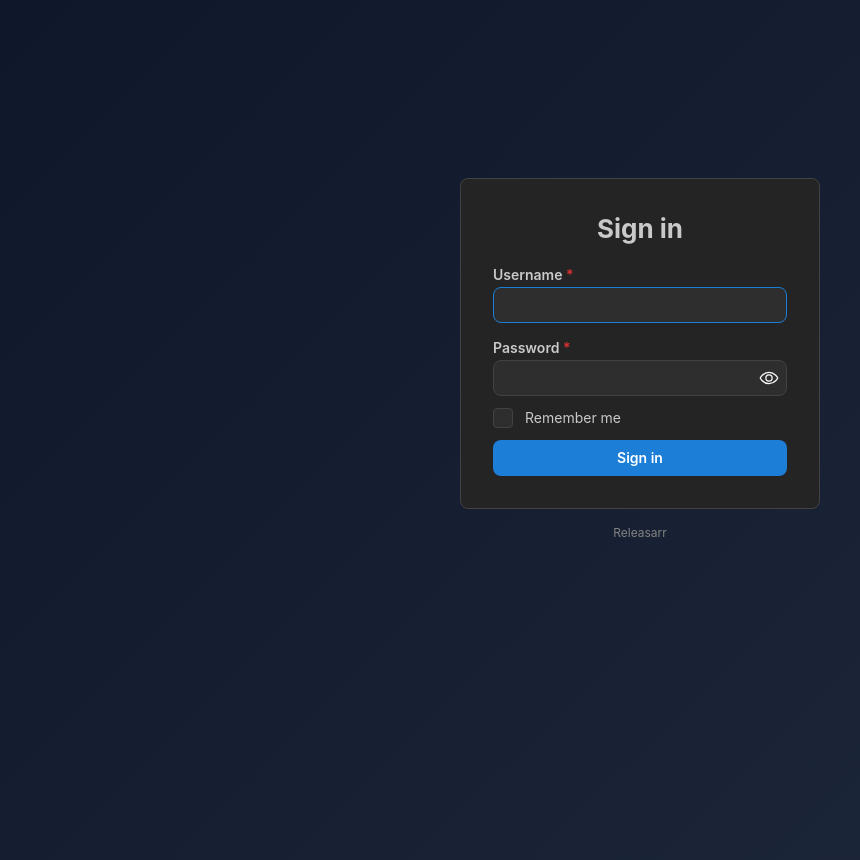
Test case: LoginPage › shows an error for the wrong password
Type "alice" into the field labelled "Username *" at (640,305), box x1=493 y1=287 x2=787 y2=323
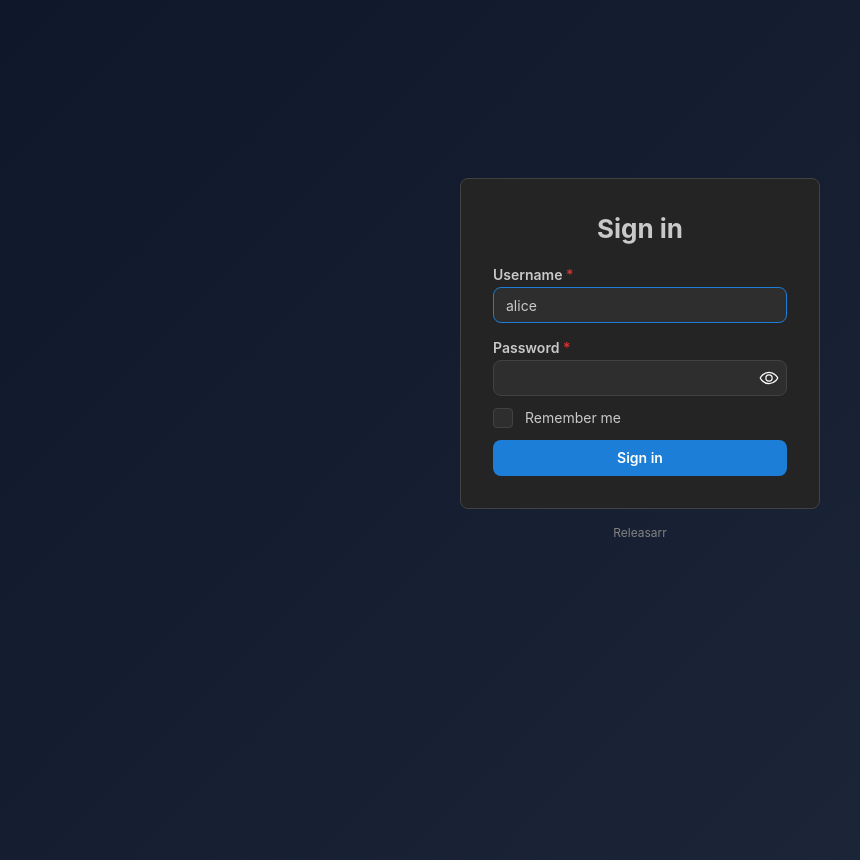
Type "wrong" into the password field labelled "Password *" at (640,378), box x1=494 y1=361 x2=786 y2=395
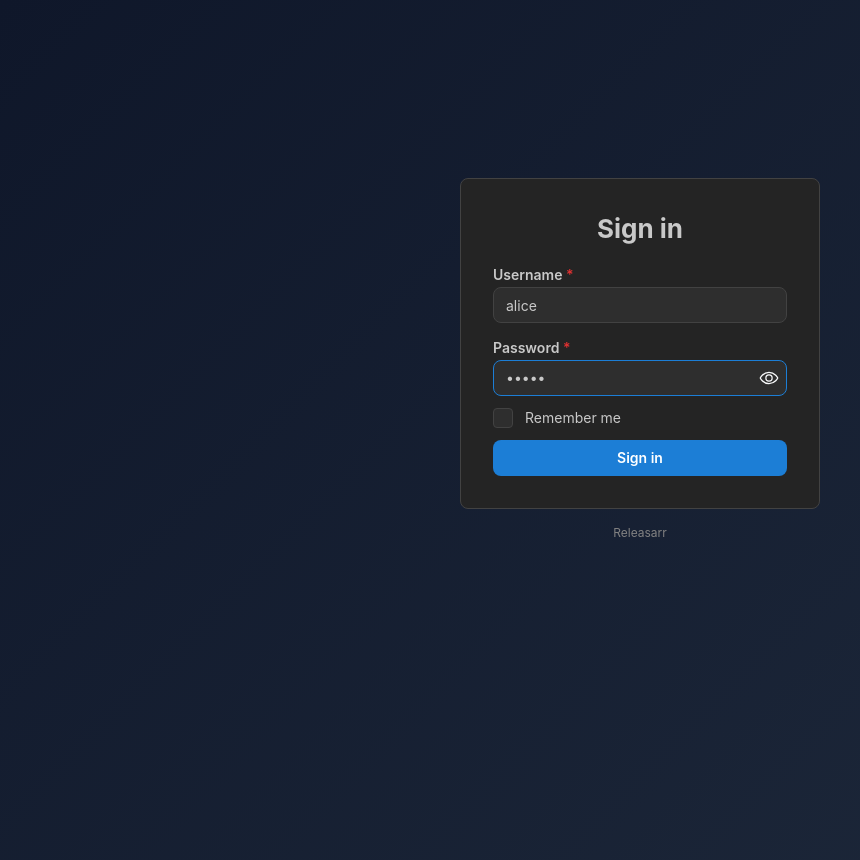
Click the button "Sign in" at (640,458), box x1=493 y1=440 x2=787 y2=476
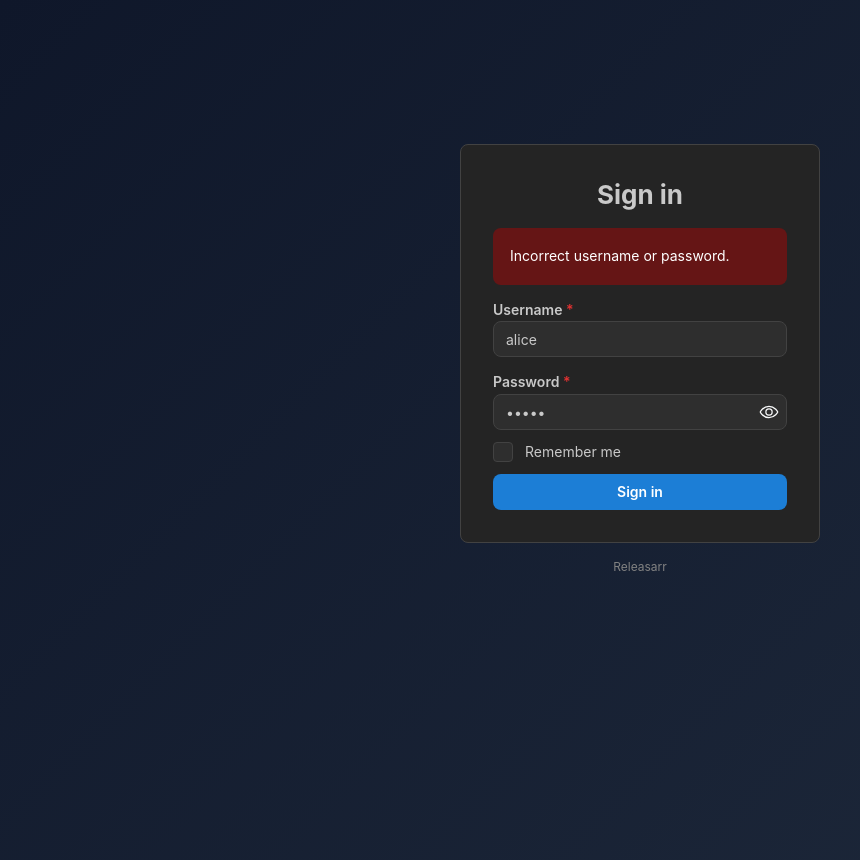
Now the text "Incorrect username or password." is shown, box x1=510 y1=247 x2=730 y2=264
